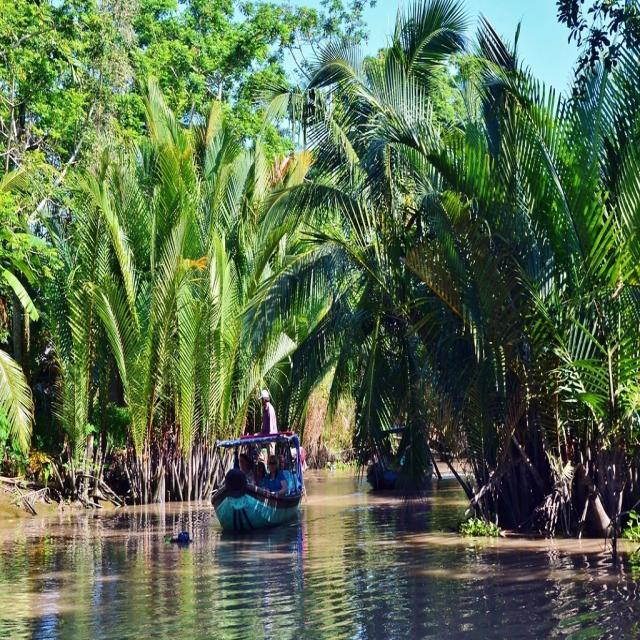Hyacinth: (319, 453, 355, 477), (465, 516, 500, 539), (621, 509, 640, 547)
boat: (195, 428, 319, 540), (362, 429, 440, 499)
